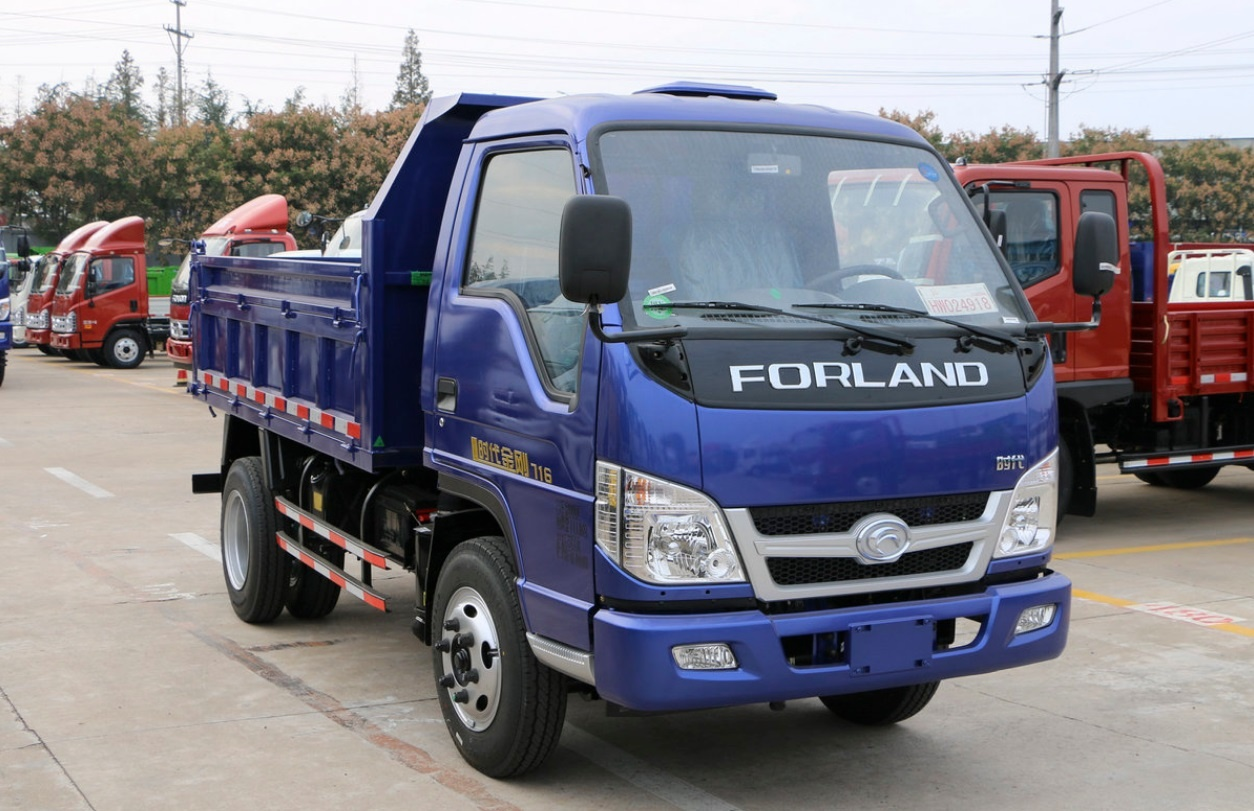truck: (180, 64, 1087, 792)
